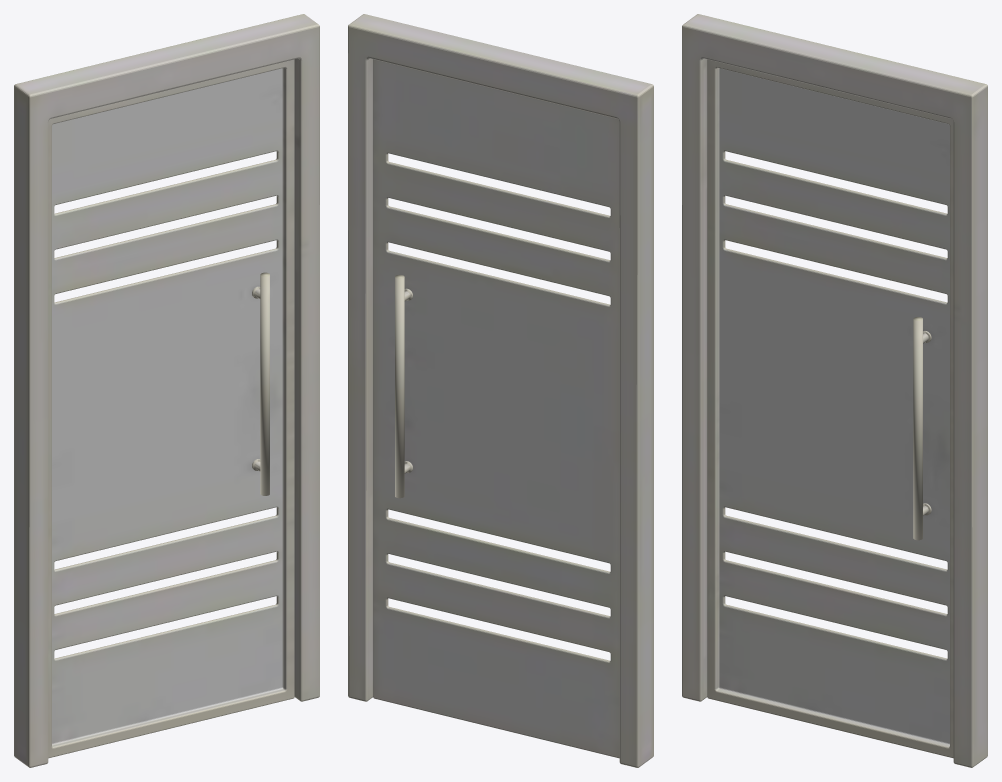
Rendered from g_wicket.glb.
3 views of the same model, side by side, from view 1: azimuth 30°, elevation 25°; view 2: azimuth 150°, elevation 25°; view 3: azimuth 330°, elevation 25° (orthographic).
Parts seen in each view (by area): view 1: folha_pq_port_s_0, folha_pq_mod_s_0, folha_pq_Material_0; view 2: folha_pq_port_s_0, folha_pq_mod_s_0, folha_pq_Material_0; view 3: folha_pq_port_s_0, folha_pq_mod_s_0, folha_pq_Material_0.
Boxes of the visible parts, box(x1,y1,x2,y2) form: folha_pq_port_s_0: box(48, 59, 294, 758); folha_pq_mod_s_0: box(14, 14, 319, 767); folha_pq_Material_0: box(252, 272, 269, 495); folha_pq_port_s_0: box(373, 59, 619, 758); folha_pq_mod_s_0: box(348, 14, 653, 767); folha_pq_Material_0: box(395, 274, 412, 498); folha_pq_port_s_0: box(707, 59, 953, 758); folha_pq_mod_s_0: box(682, 14, 987, 767); folha_pq_Material_0: box(913, 317, 931, 540).
Bounding box in the file's own units: 1.04 × 2.3 × 0.1418.
Materials: 3 (3 with a texture image).
